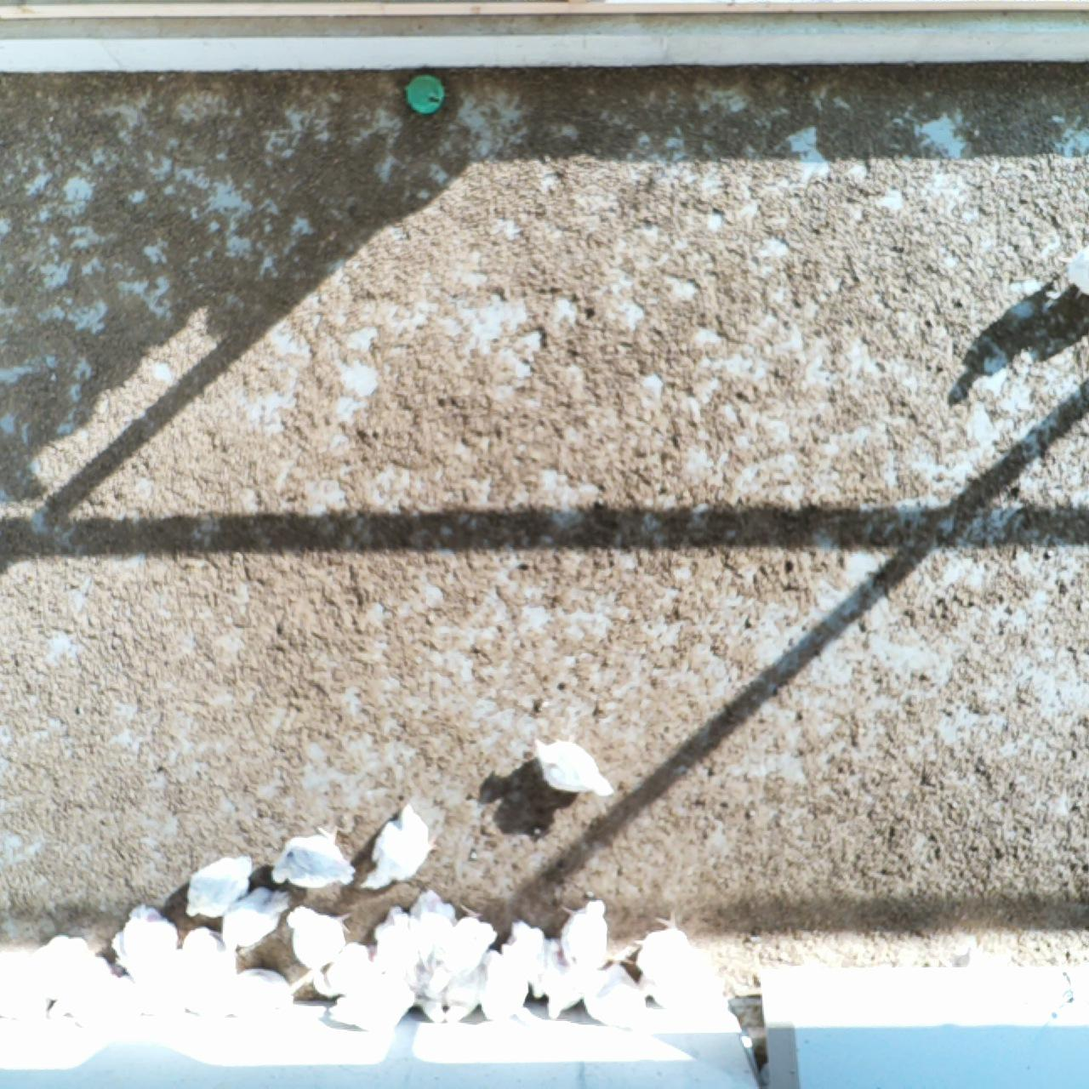chicken: (356, 805, 441, 892), (38, 963, 125, 1038), (268, 822, 356, 894), (427, 902, 495, 995), (111, 908, 177, 1000), (633, 915, 713, 990), (173, 924, 236, 1018), (528, 735, 616, 799), (332, 972, 418, 1032), (631, 971, 732, 1022), (184, 851, 254, 924), (579, 960, 648, 1030), (371, 903, 424, 991), (499, 919, 558, 998), (28, 936, 100, 1000), (223, 886, 290, 952), (280, 902, 349, 966), (433, 952, 492, 1024), (544, 939, 596, 1020), (317, 940, 382, 1004), (477, 948, 533, 1021), (558, 898, 610, 974), (230, 965, 294, 1022), (392, 962, 448, 1026), (95, 976, 154, 1029), (0, 972, 49, 1032)
